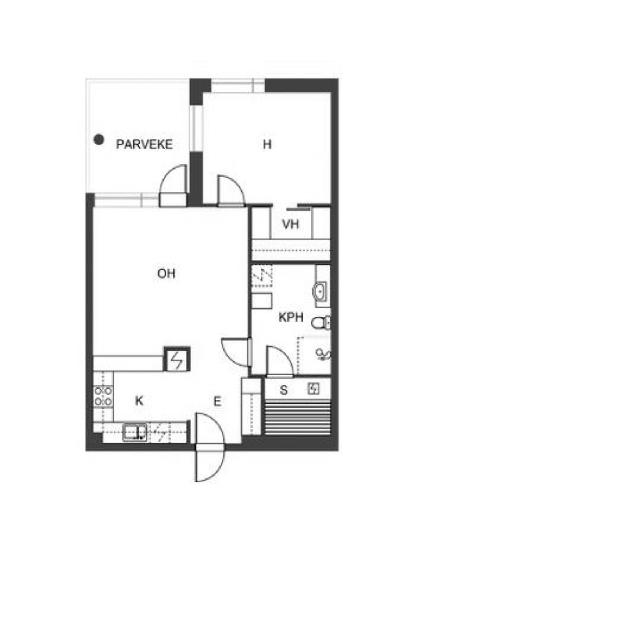door: (190, 410, 228, 486), (214, 332, 260, 372), (156, 159, 190, 208), (213, 169, 248, 209), (262, 342, 297, 381)
window: (204, 72, 274, 98), (88, 187, 168, 209), (185, 99, 207, 158)
zone: (87, 202, 250, 359), (198, 87, 333, 206), (251, 259, 334, 378), (91, 359, 194, 445), (261, 373, 336, 443), (249, 204, 335, 262)
